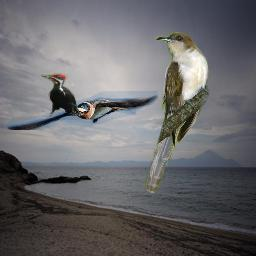Cuckoo: (145, 32, 210, 193)
Swallow: (6, 91, 158, 130)
Woodpecker: (41, 71, 79, 117)
